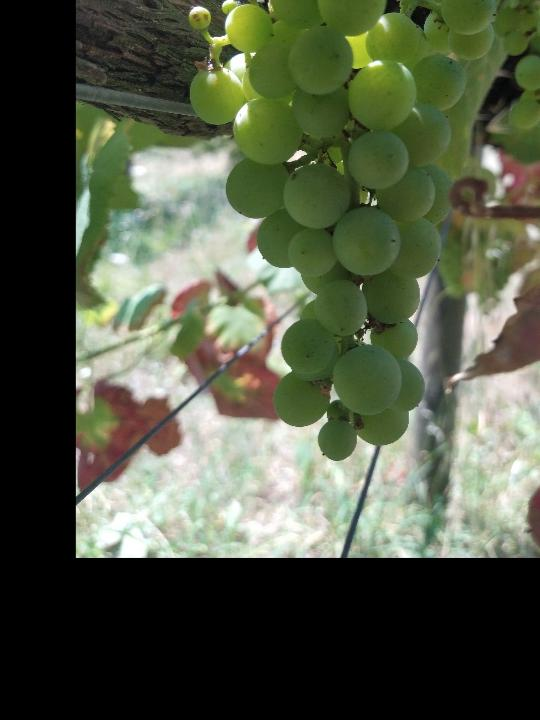grape: (188, 0, 507, 464)
